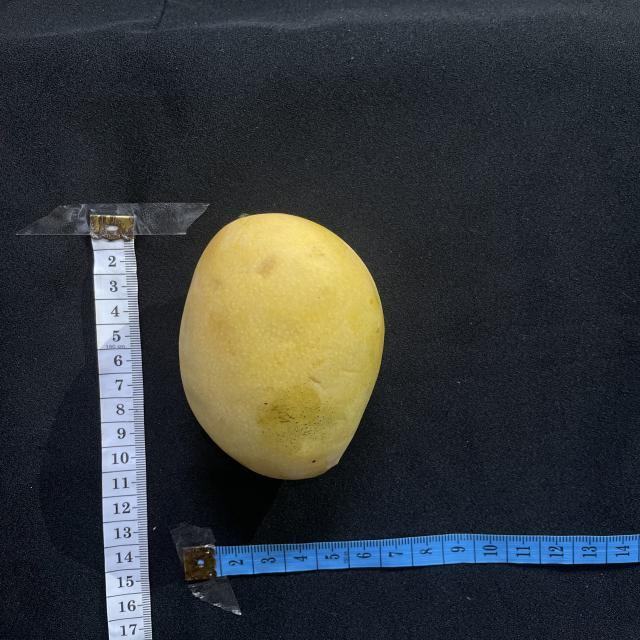Ripe: (179, 214, 384, 480), (238, 247, 242, 257), (298, 337, 300, 342)
